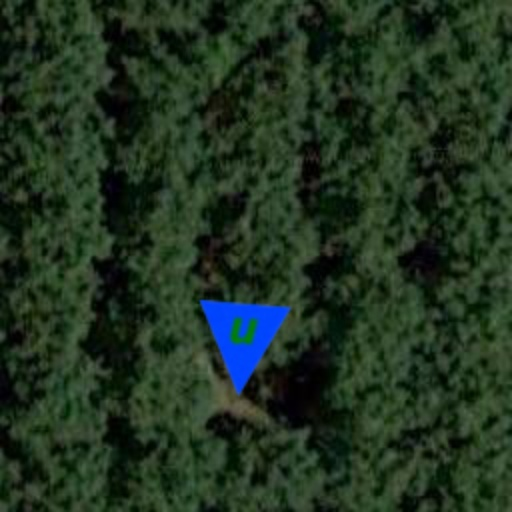triangle: (192, 300, 292, 400)
